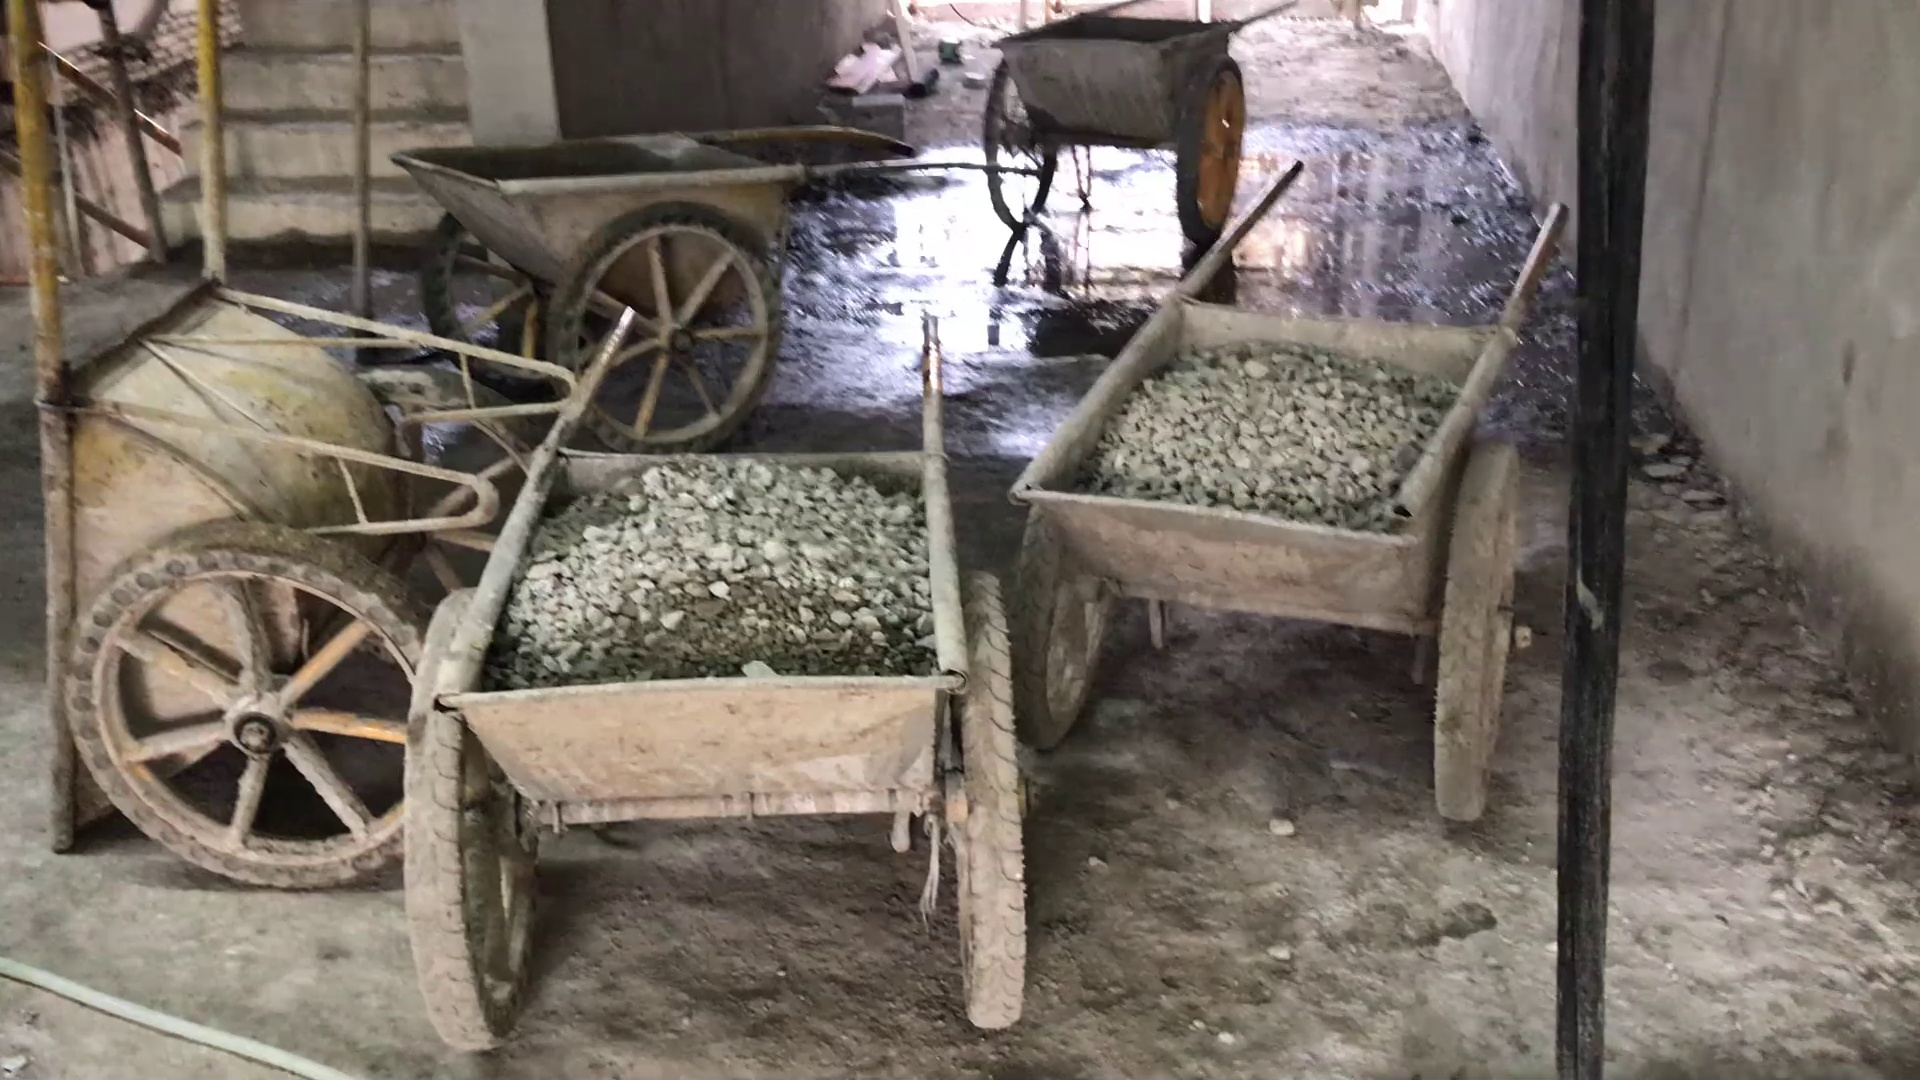handcart: (404, 287, 1036, 1042), (8, 46, 556, 880), (1011, 160, 1581, 778), (368, 108, 1034, 427), (959, 1, 1317, 243)
